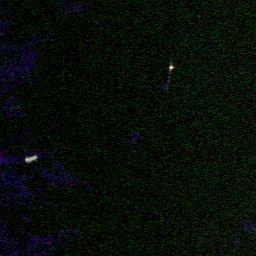Ship: (22, 152, 44, 163), (164, 61, 178, 72)
